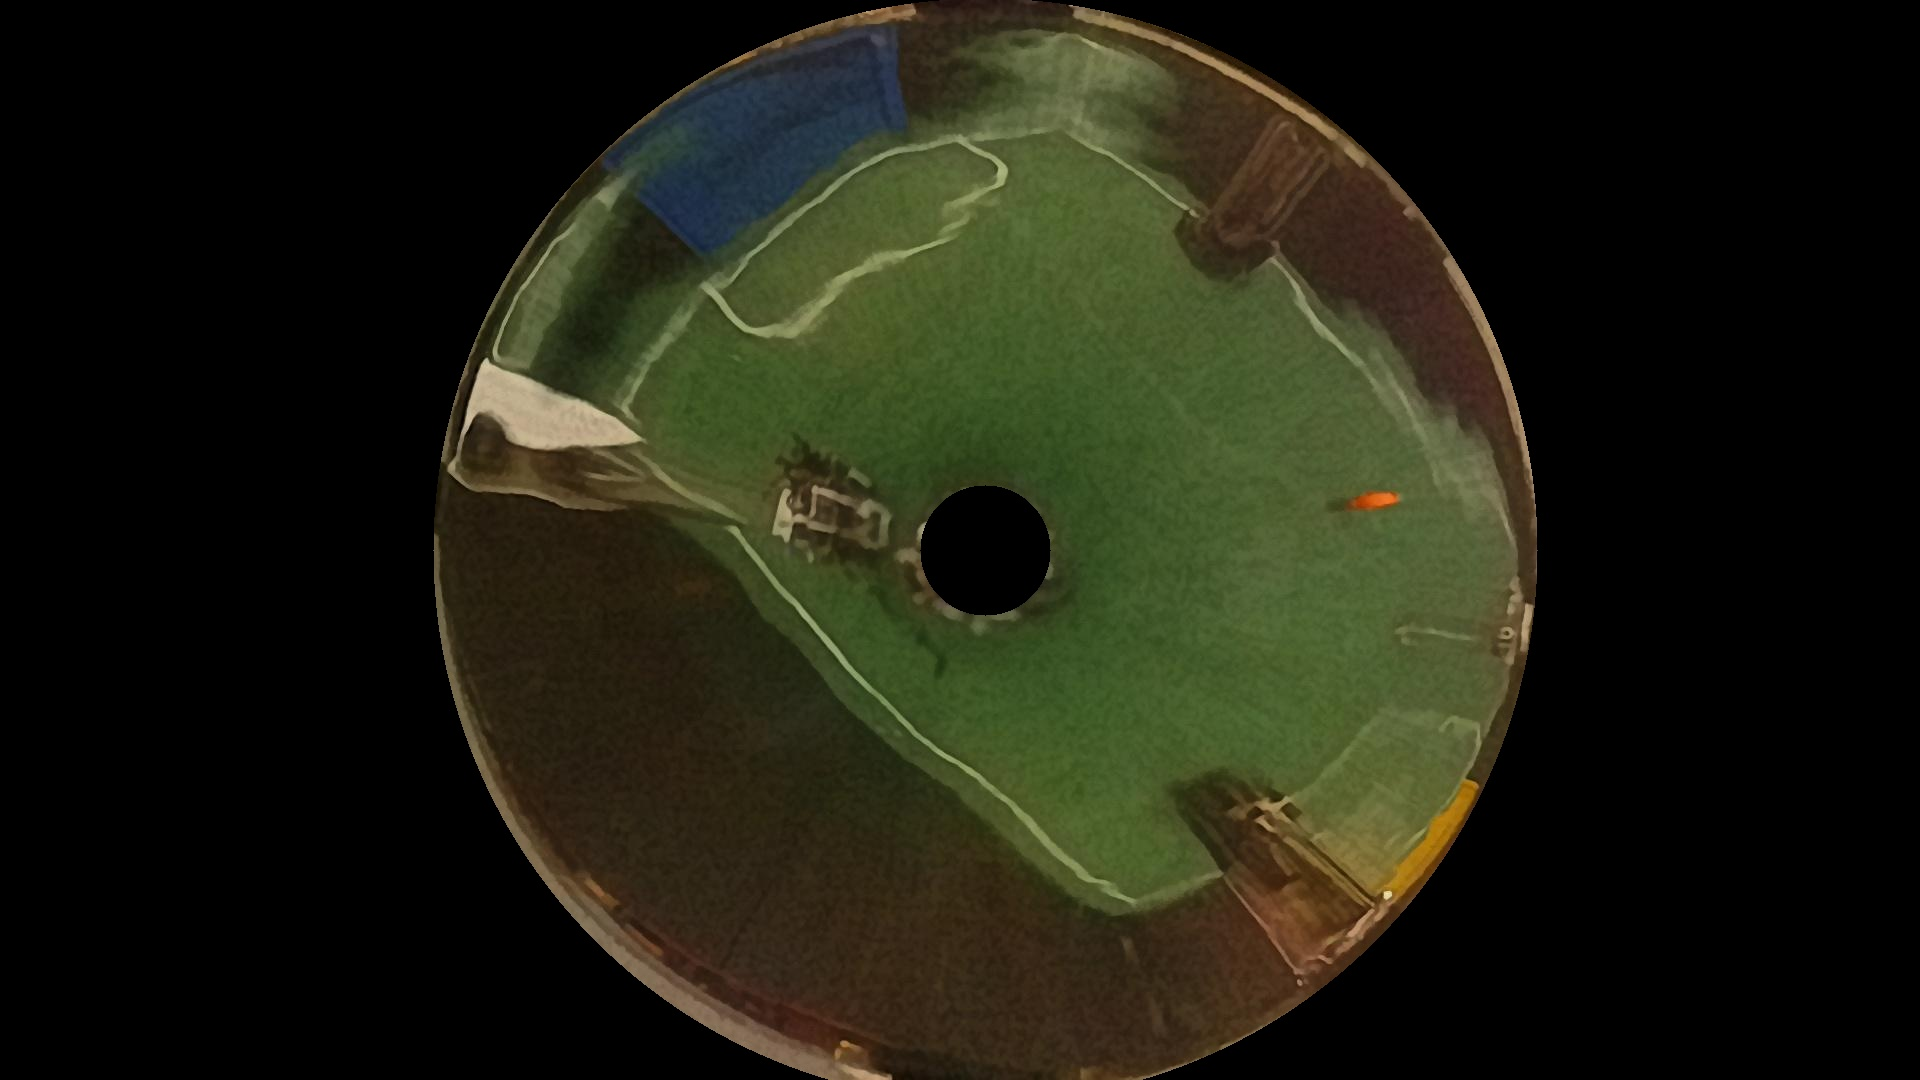ball: (1335, 485, 1403, 522)
blue-goal: (592, 46, 945, 251)
robots: (456, 386, 893, 572), (1155, 757, 1378, 949), (1158, 88, 1331, 305), (1396, 583, 1542, 675)
yellow-goal: (1378, 758, 1477, 920)
